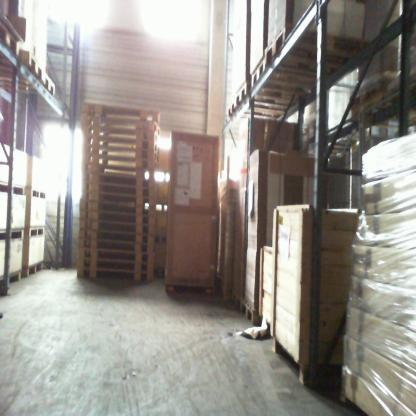pallet: (264, 26, 362, 78), (251, 56, 317, 99), (235, 84, 296, 110), (0, 51, 44, 82), (0, 73, 56, 97), (227, 102, 283, 121), (0, 23, 19, 57), (242, 298, 261, 327), (0, 180, 26, 197), (21, 259, 44, 278), (0, 270, 21, 288), (25, 185, 47, 201), (0, 228, 24, 242), (24, 225, 45, 238), (232, 291, 243, 311)
